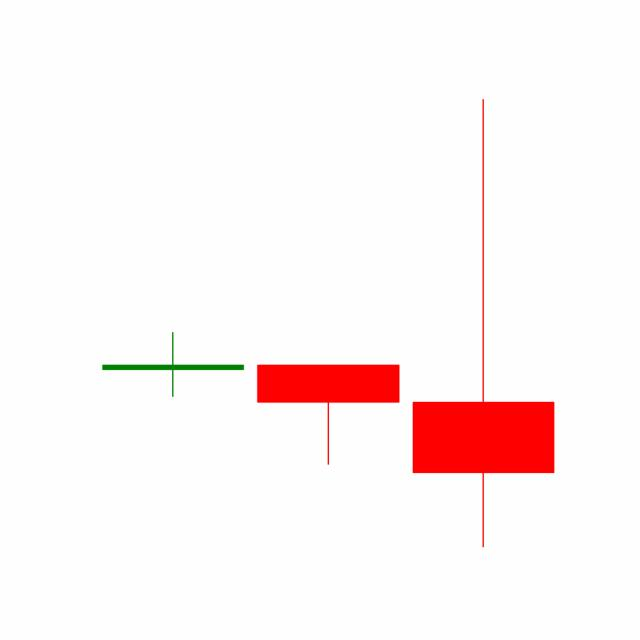Hammer: (249, 363, 406, 466)
